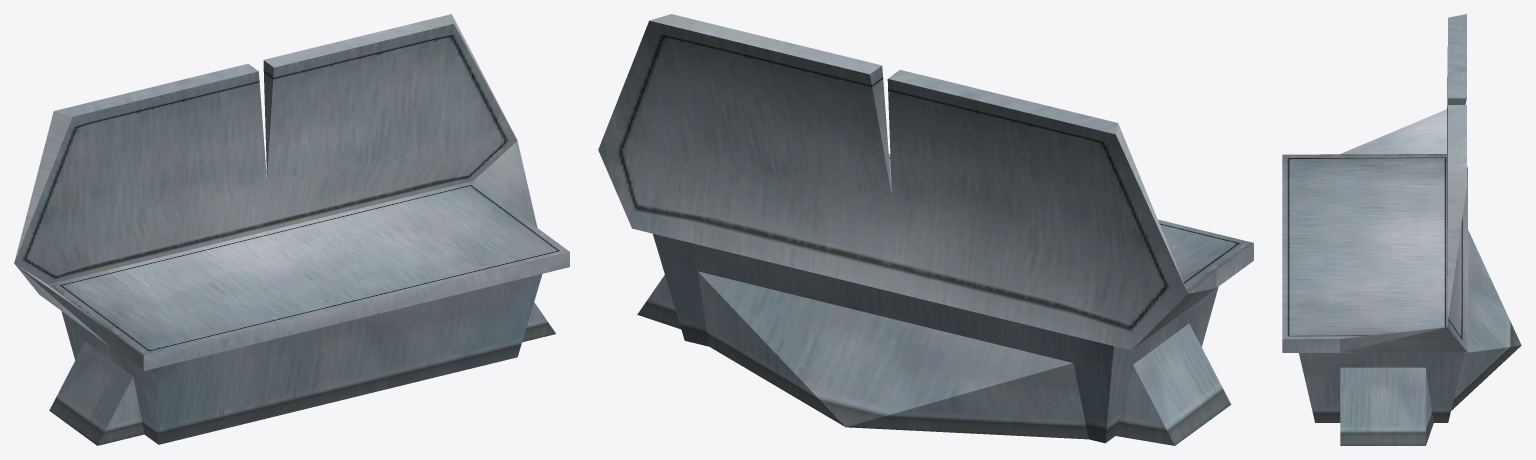
File: frn_all_tech_love_seat_s01_l1.fbx
3 views of the same model, side by side, from view 1: azimuth 30°, elevation 25°; view 2: azimuth 150°, elevation 25°; view 3: azimuth 270°, elevation 25° (orthographic). The views are drawn at different scales.
Visible parts, largest first — view 1: mesh_node; view 2: mesh_node; view 3: mesh_node.
Part boxes in pixels (box(x1,y1,x2,y2)): mesh_node: box(14, 14, 569, 445); mesh_node: box(598, 14, 1253, 445); mesh_node: box(1282, 14, 1521, 445).
Size of the model in its own units: 1.91 by 1 by 0.8862.
